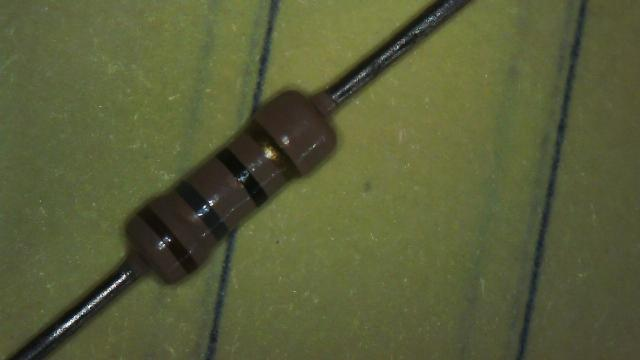black: (217, 148, 268, 208)
brown: (140, 206, 196, 273)
gold: (243, 118, 302, 184)
grey: (178, 180, 227, 238)
resistor: (90, 54, 373, 314)
